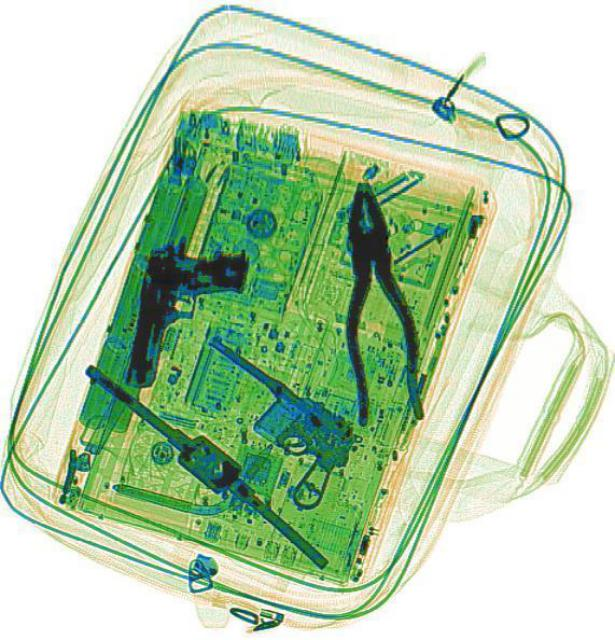Gun: (156, 329, 371, 515), (120, 234, 250, 400)
Pliers: (325, 176, 429, 424)
